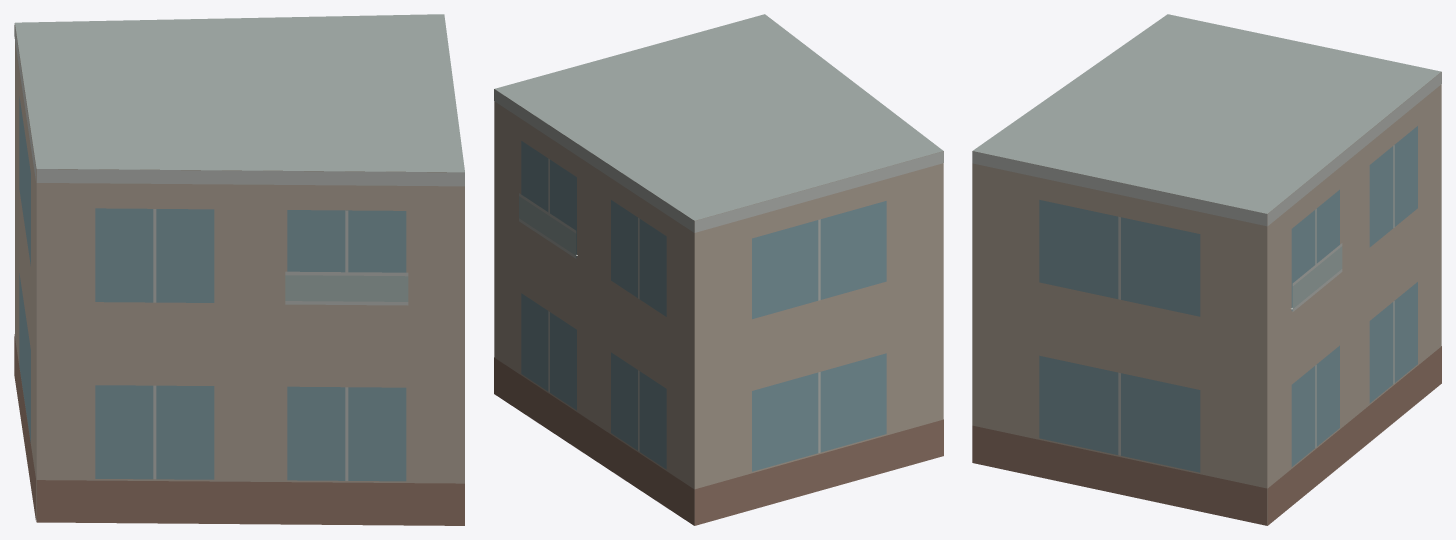
File: survey-upis-32489770.glb
The picture shows the model from 3 angles, left to right: view 1: azimuth 30°, elevation 25°; view 2: azimuth 150°, elevation 25°; view 3: azimuth 270°, elevation 25°; orthographic projection. The views are drawn at different scales.
Visible parts, largest first — view 1: survey-upis-32489770.tmp; view 2: survey-upis-32489770.tmp; view 3: survey-upis-32489770.tmp.
Boxes of the visible parts, <box> form: survey-upis-32489770.tmp: <box>14,14,464,525</box>; survey-upis-32489770.tmp: <box>494,14,943,525</box>; survey-upis-32489770.tmp: <box>972,14,1441,525</box>.
Size of the model in its own units: 8.4 by 6.1 by 8.33.
